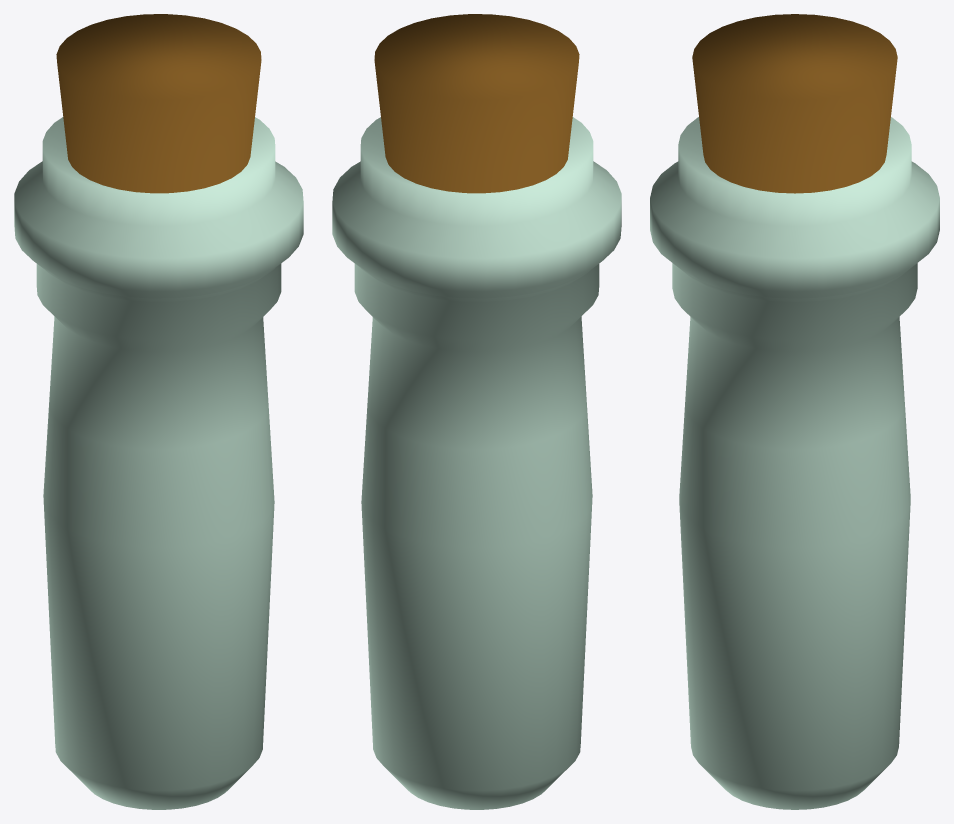
The model's file is SpeedPotion.fbx.
3 views of the same model, side by side, from view 1: azimuth 30°, elevation 25°; view 2: azimuth 150°, elevation 25°; view 3: azimuth 270°, elevation 25° (orthographic).
Visible parts, largest first — view 1: SpeedPotion; view 2: SpeedPotion; view 3: SpeedPotion.
Part boxes in pixels (left/top/right/bottom): SpeedPotion: left=14, top=14, right=303, bottom=809; SpeedPotion: left=332, top=14, right=621, bottom=809; SpeedPotion: left=650, top=14, right=939, bottom=809.
Size of the model in its own units: 236 by 662 by 236.
